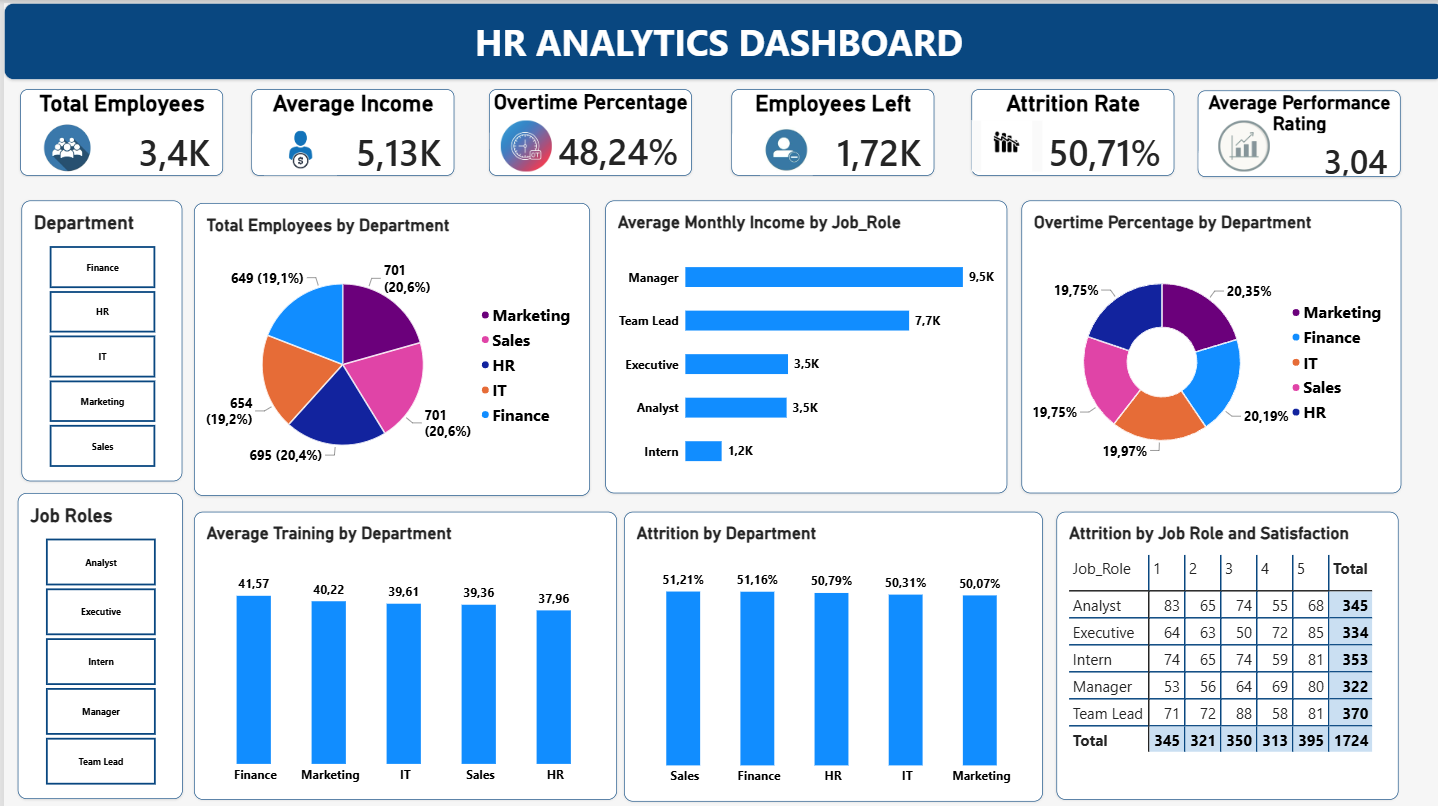

The dashboard page shown, as its layout file describes it:
{"tool":"powerbi","page":{"name":"Page 1","canvas":[1920,1080],"ordinal":0},"visuals":[{"type":"textbox","box":[0,0,1920,102],"z":0},{"type":"cardVisual","title":"Total Employees","fields":{"Data":["CountNonNull(hr_project hr_data.Employee_ID)"]},"box":[21.7,115,270,115],"z":1000},{"type":"cardVisual","title":"Overtime Percentage","fields":{"Data":["hr_project hr_data.Overtime Percentage"]},"box":[646.7,115,270,115],"z":2000},{"type":"cardVisual","title":"Attrition Rate","fields":{"Data":["hr_project hr_data.Atrition Rate"]},"box":[1290,115,270,115],"z":3000},{"type":"cardVisual","title":"Average Income","fields":{"Data":["hr_project hr_data.Average Monthly Income"]},"box":[330,115,270,115],"z":4000},{"type":"cardVisual","title":"Employees Left","fields":{"Data":["hr_project hr_data.Employees Left"]},"box":[970,115,270,115],"z":5000},{"type":"image","box":[1290,156.7,94,68],"z":7000},{"type":"image","box":[346.7,161.7,98,68],"z":8000},{"type":"clusteredColumnChart","title":"Attrition by Department","fields":{"Category":["hr_project hr_data.Department"],"Y":["hr_project hr_data.Atrition Rate"]},"box":[826,678,558,386],"z":9000},{"type":"donutChart","fields":{"Category":["hr_project hr_data.Department"],"Y":["hr_project hr_data.Total Employees"]},"box":[254,266,528,390],"z":10000},{"type":"pieChart","fields":{"Category":["hr_project hr_data.Department"],"Y":["hr_project hr_data.Overtime Percentage"]},"box":[1356,264,506,390],"z":11000},{"type":"barChart","fields":{"Category":["hr_project hr_data.Job_Role"],"Y":["hr_project hr_data.Average Monthly Income"]},"box":[802,264,536,390],"z":12000},{"type":"pivotTable","title":"Attrition by Job Role and Satisfaction","fields":{"Columns":["hr_project hr_data.Job_Satisfaction"],"Rows":["hr_project hr_data.Job_Role"],"Values":["hr_project hr_data.Attrition Count"]},"box":[1404,678,456,384],"z":13000},{"type":"slicer","title":"Department","fields":{"Values":["hr_project hr_data.Department"]},"box":[24,264,214,374],"z":14000},{"type":"columnChart","title":"Average Training by Department","fields":{"Category":["hr_project hr_data.Department"],"Y":["Avg(hr_project hr_data.Training_Hours_Last_Year)"]},"box":[254,678,564,384],"z":15000},{"type":"cardVisual","title":"Average Performance Rating","fields":{"Data":["Avg(hr_project hr_data.Performance_Rating)"]},"box":[1591.7,116.7,270,115],"z":16000},{"type":"image","box":[1615,156.7,76.7,68.3],"z":17000},{"type":"image","box":[1000,161.7,86.7,68.3],"z":18000},{"type":"image","box":[45,161.7,78.3,63.3],"z":19000},{"type":"slicer","title":"Job Roles","fields":{"Values":["hr_project hr_data.Job_Role"]},"box":[18,654,220,408],"z":20000},{"type":"image","box":[660,156,72,68],"z":20001}]}

Visuals, with their boxes in screenshot pixels (x1, y1, x2, y2), scaled from the page's 1920x1080 canvas onto the 1438x806 screenshot:
textbox: bbox=[0, 0, 1437, 76]
"Total Employees" cardVisual: bbox=[16, 86, 218, 172]
"Overtime Percentage" cardVisual: bbox=[484, 86, 687, 172]
"Attrition Rate" cardVisual: bbox=[966, 86, 1168, 172]
"Average Income" cardVisual: bbox=[247, 86, 449, 172]
"Employees Left" cardVisual: bbox=[726, 86, 929, 172]
image: bbox=[966, 117, 1037, 168]
image: bbox=[260, 121, 333, 171]
"Attrition by Department" clusteredColumnChart: bbox=[619, 506, 1037, 794]
donutChart - hr_project hr_data.Department x hr_project hr_data.Total Employees: bbox=[190, 199, 586, 490]
pieChart - hr_project hr_data.Department x hr_project hr_data.Overtime Percentage: bbox=[1016, 197, 1395, 488]
barChart - hr_project hr_data.Job_Role x hr_project hr_data.Average Monthly Income: bbox=[601, 197, 1002, 488]
"Attrition by Job Role and Satisfaction" pivotTable: bbox=[1052, 506, 1393, 793]
"Department" slicer: bbox=[18, 197, 178, 476]
"Average Training by Department" columnChart: bbox=[190, 506, 613, 793]
"Average Performance Rating" cardVisual: bbox=[1192, 87, 1394, 173]
image: bbox=[1210, 117, 1267, 168]
image: bbox=[749, 121, 814, 172]
image: bbox=[34, 121, 92, 168]
"Job Roles" slicer: bbox=[13, 488, 178, 793]
image: bbox=[494, 116, 548, 167]
